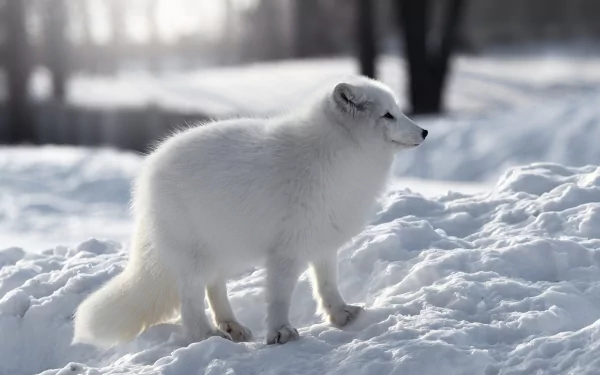arcticfox: (347, 85, 437, 172)
